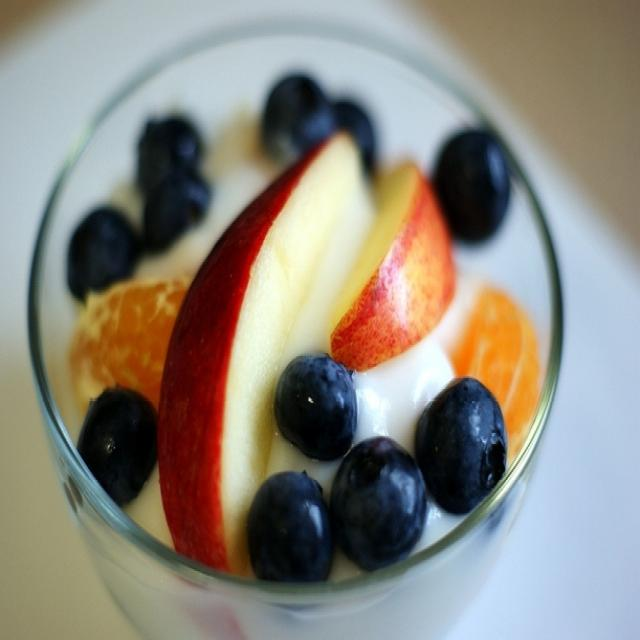蛋糕甜品: (20, 34, 575, 626)
